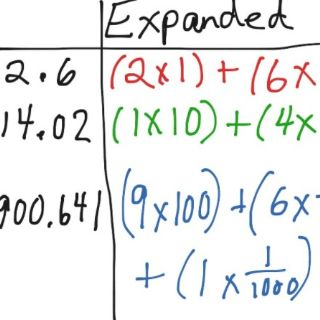.: (33, 129, 46, 142), (39, 69, 48, 84), (44, 219, 52, 229)
0: (26, 193, 46, 225), (185, 105, 201, 138), (51, 112, 66, 142), (13, 197, 26, 225)
1: (198, 256, 209, 296), (130, 105, 140, 139), (262, 244, 275, 269), (170, 105, 179, 139), (1, 109, 11, 139), (177, 54, 187, 83)
2: (124, 55, 155, 89), (3, 56, 29, 86), (72, 107, 92, 144)
4: (15, 102, 35, 141), (275, 100, 295, 137), (72, 188, 88, 225)
6: (265, 57, 288, 93), (54, 57, 78, 87), (267, 185, 290, 216), (56, 192, 71, 228)
9: (128, 183, 149, 231)
